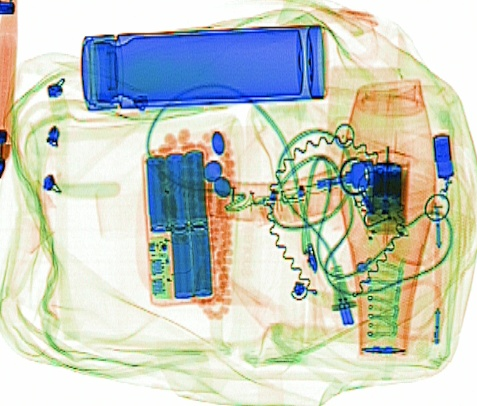powerbank: (141, 142, 217, 309)
